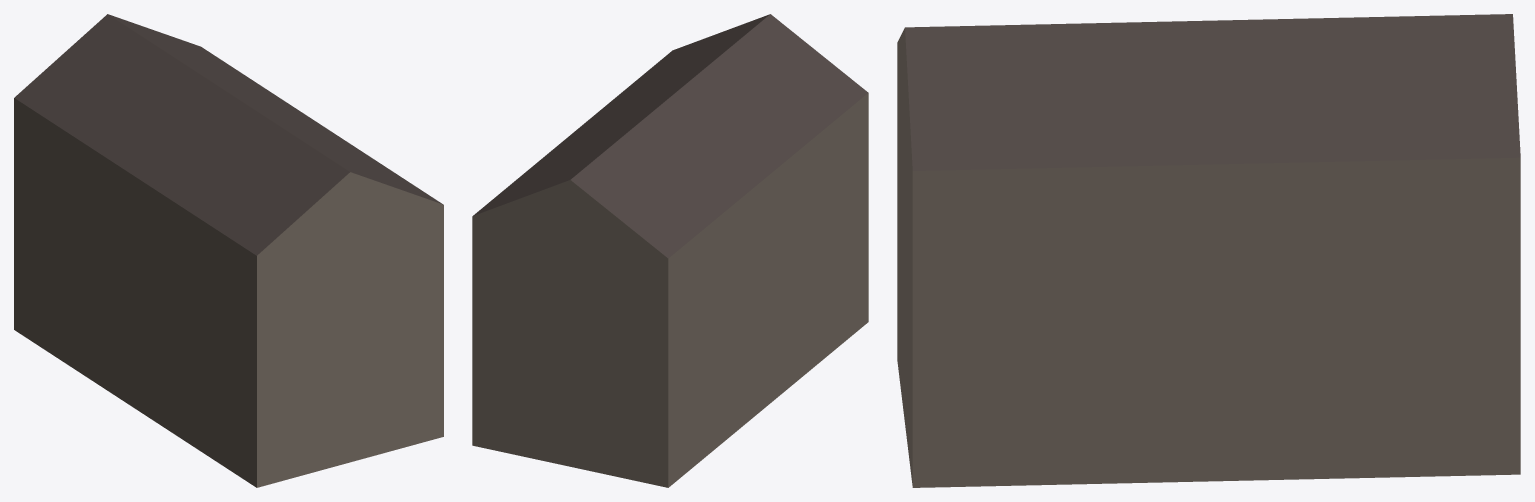
3 views of the same model, side by side, from view 1: azimuth 30°, elevation 25°; view 2: azimuth 150°, elevation 25°; view 3: azimuth 270°, elevation 25° (orthographic). The views are drawn at different scales.
Parts seen in each view (by area): view 1: HP-w1424106427; view 2: HP-w1424106427; view 3: HP-w1424106427.
Boxes of the visible parts, x1=… form: HP-w1424106427: x1=14, y1=14, x2=443, y2=487; HP-w1424106427: x1=472, y1=14, x2=868, y2=487; HP-w1424106427: x1=897, y1=14, x2=1520, y2=487.
Bounding box in the file's own units: 5.76 × 7.51 × 10.7.
